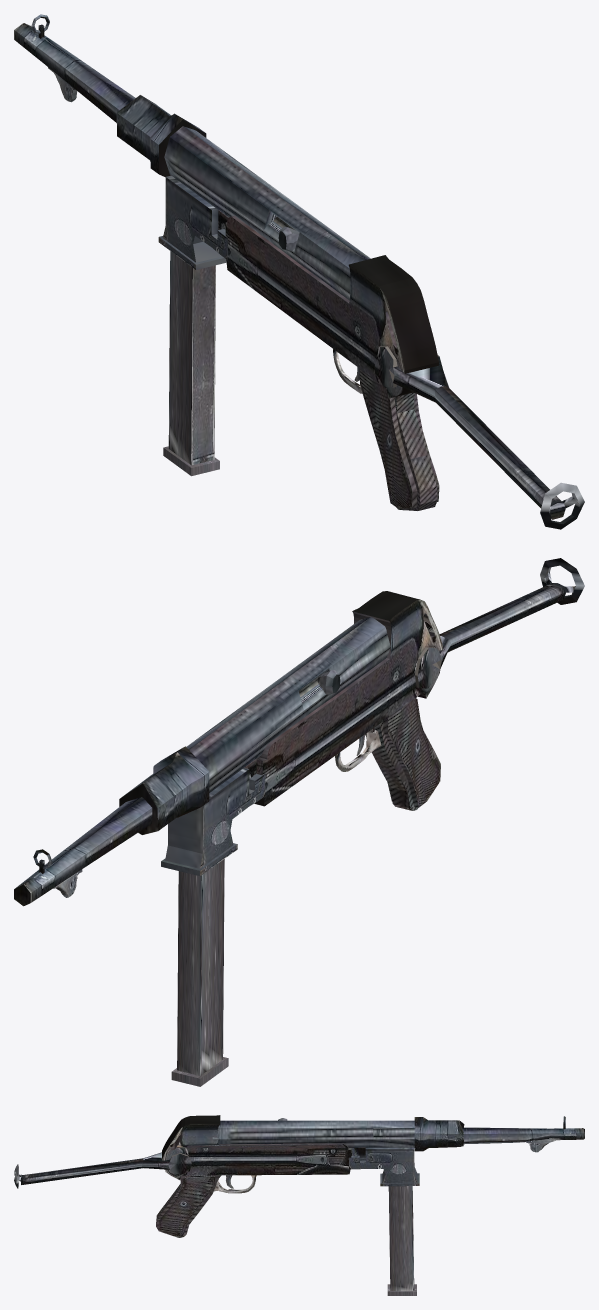
The picture shows the model from 3 angles, top to bottom: view 1: azimuth 30°, elevation 25°; view 2: azimuth 150°, elevation 25°; view 3: azimuth 270°, elevation 25°; orthographic projection. The views are drawn at different scales.
Parts seen in each view (by area): view 1: MP38; view 2: MP38; view 3: MP38.
Part boxes in pixels (left/top/right/bottom): MP38: left=14, top=14, right=584, bottom=529; MP38: left=14, top=558, right=584, bottom=1086; MP38: left=14, top=1115, right=584, bottom=1295.
Bounding box in the file's own units: 52.03 × 334 × 978.
